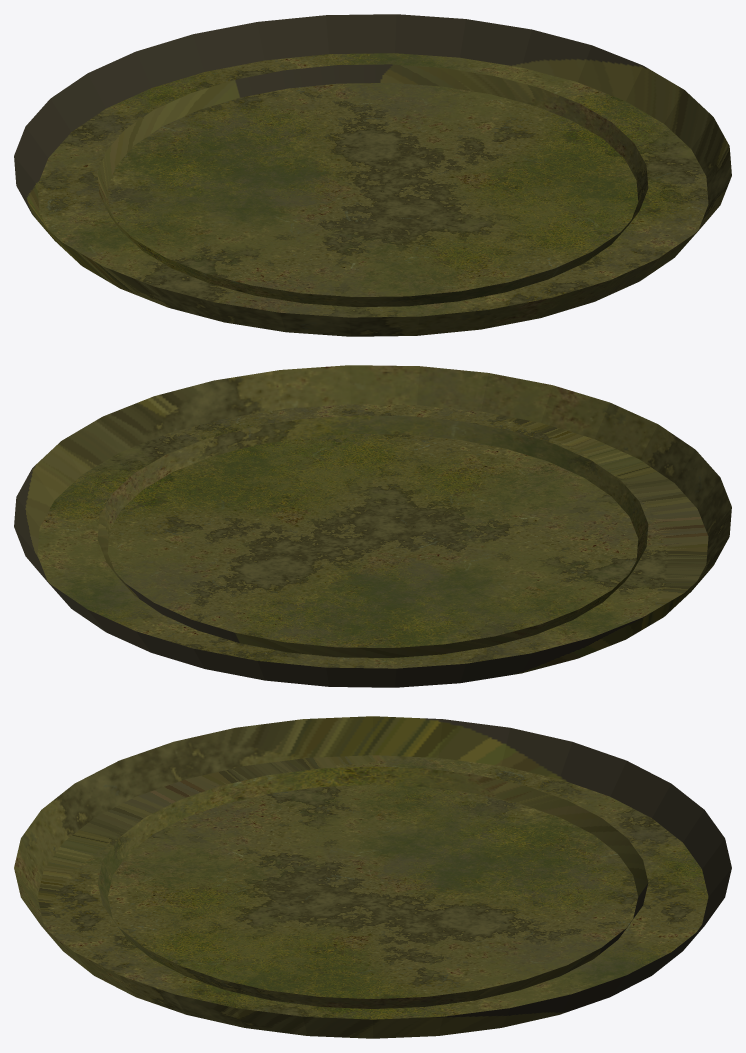
The model's file is test_ground.fbx.
3 renders of one model, top to bottom at view 1: azimuth 30°, elevation 25°; view 2: azimuth 150°, elevation 25°; view 3: azimuth 270°, elevation 25°, orthographic.
Parts seen in each view (by area): view 1: Cylinder_w_ground.003; view 2: Cylinder_w_ground.003; view 3: Cylinder_w_ground.003.
Part boxes in pixels (bbox=[...]): Cylinder_w_ground.003: bbox=[14, 14, 731, 336]; Cylinder_w_ground.003: bbox=[14, 365, 731, 687]; Cylinder_w_ground.003: bbox=[14, 716, 731, 1038].
Bounding box in the file's own units: 10624 × 474 × 10624.
